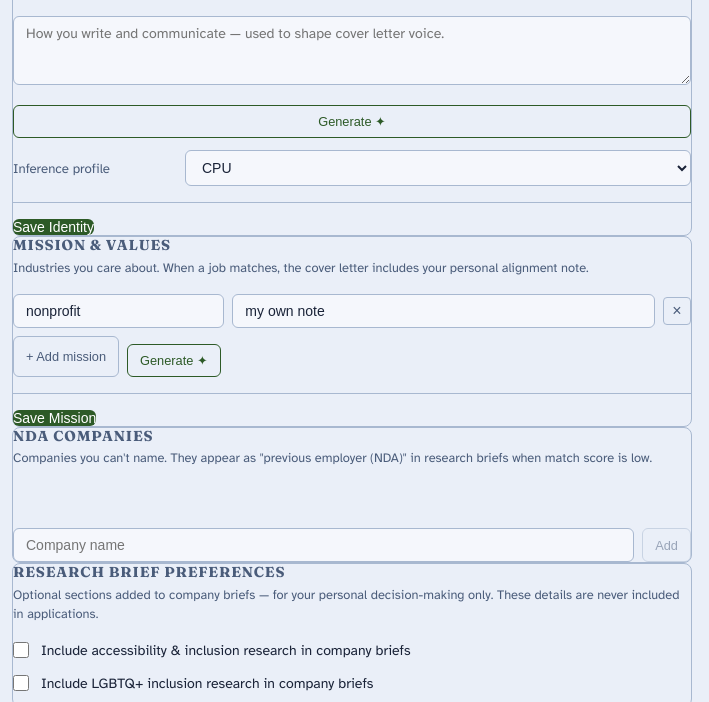
Test: MyProfileView, AI generate buttons require review › generate-missions appends suggestions instead of replacing existing entries
The width and height of the screenshot is (709, 702).
(page scrolled)
Check: the number of elements with class "mission-row" is 1, box x1=13 y1=294 x2=691 y2=328
Click the button with class "btn-generate" below "Mission & Values": (174, 360) x1=127 y1=344 x2=221 y2=377
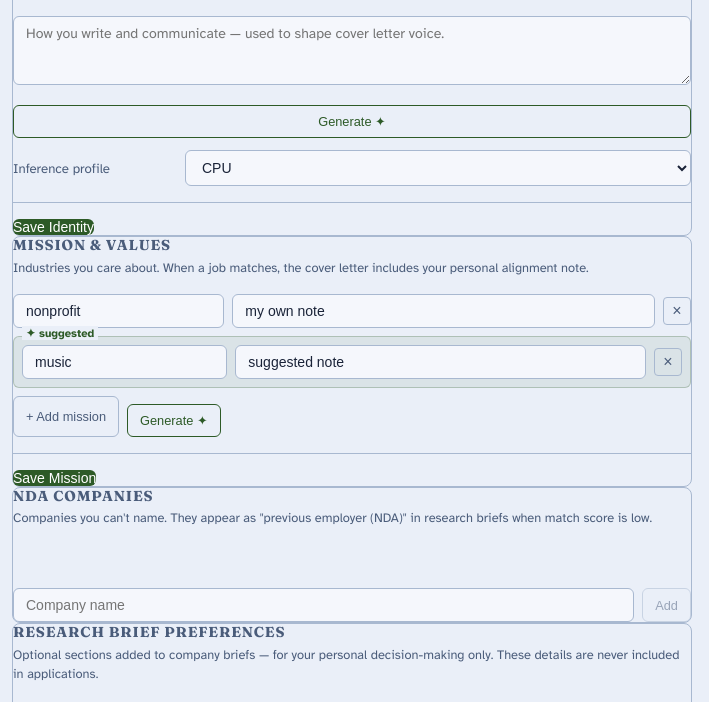
Check: the number of elements with class "mission-row" is 2, box x1=13 y1=294 x2=691 y2=328; x1=13 y1=336 x2=691 y2=388
Check: the 3rd field with class "mission-industry" holds "music", box x1=22 y1=345 x2=227 y2=379
Check: the text "✦ suggested" is shown, box x1=22 y1=326 x2=98 y2=340
